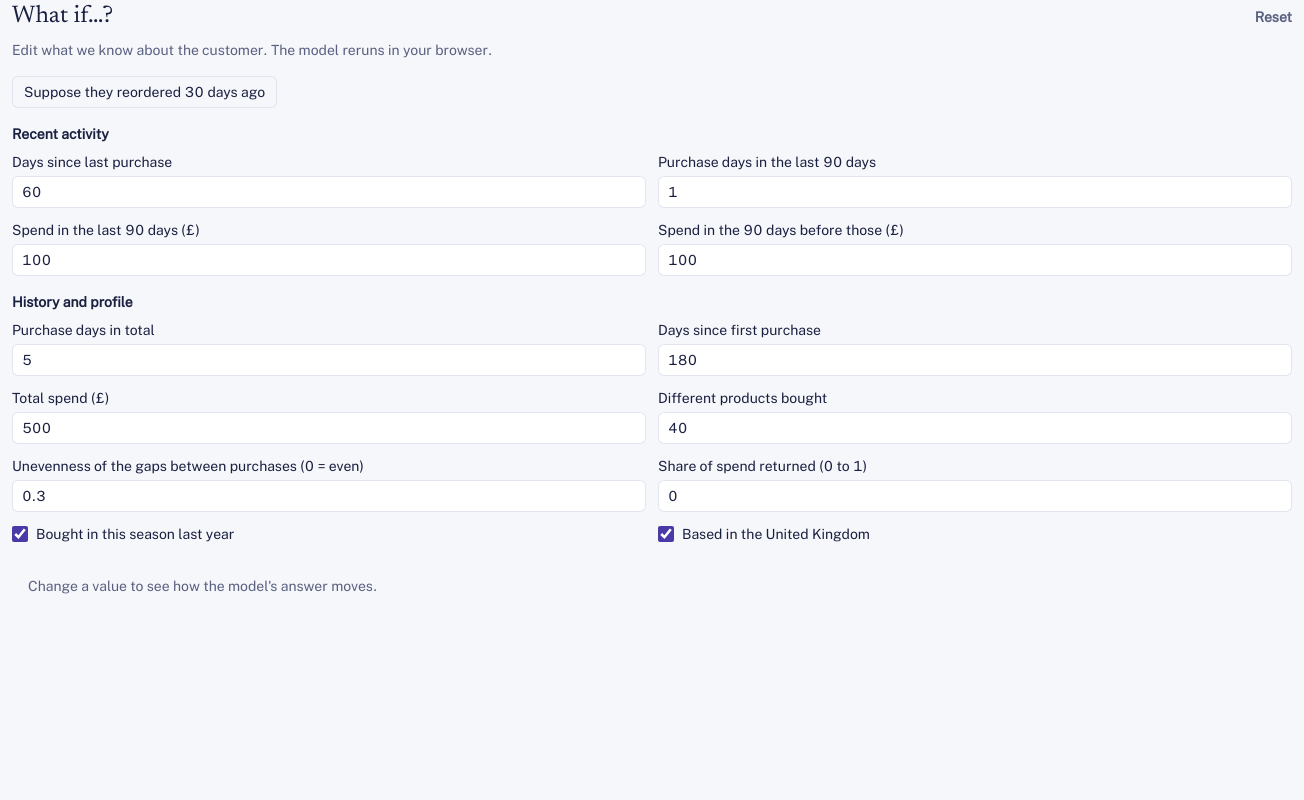
Test case: the reorder preset fills one consistent edit, and Reset undoes it
Click the button "Suppose they reordered 30 days ago" at [145, 92], box x1=12 y1=76 x2=277 y2=108
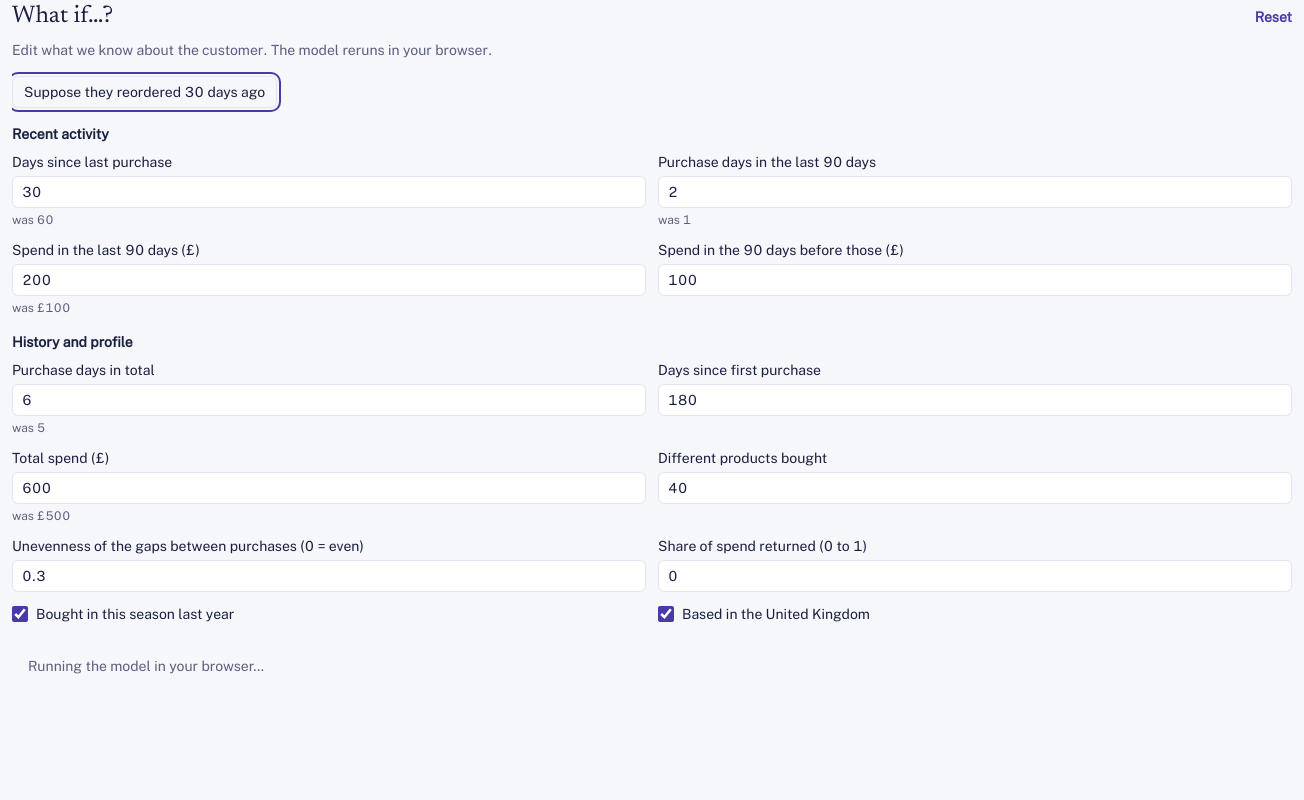
Now the field labelled "Days since last purchase" holds "30", box x1=12 y1=176 x2=646 y2=208
Now the field labelled "Purchase days in total" holds "6", box x1=12 y1=384 x2=646 y2=416
Now the text "was 60" is shown, box x1=12 y1=213 x2=54 y2=227
Click the button "Reset" at [1273, 17], box x1=1255 y1=7 x2=1292 y2=27
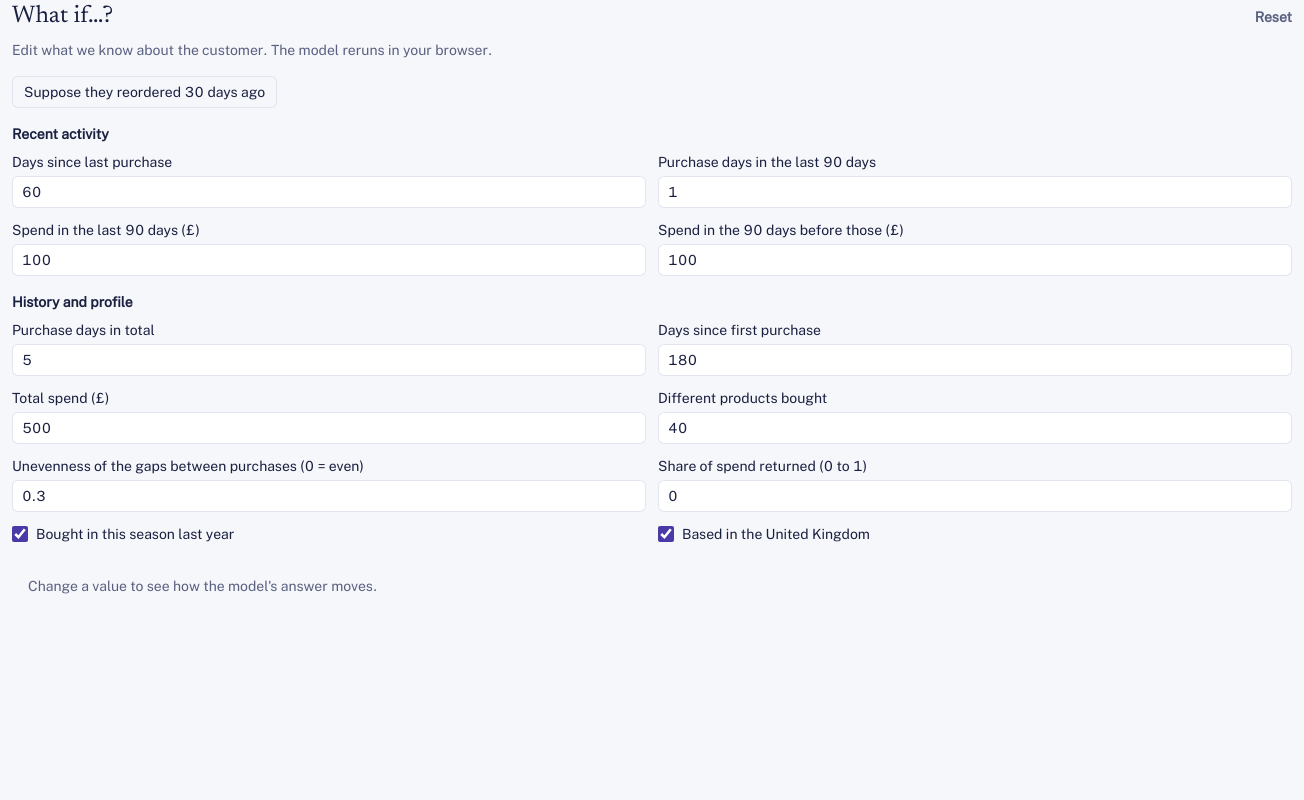
Now the field labelled "Days since last purchase" holds "60", box x1=12 y1=176 x2=646 y2=208
Now the message named "What-if result" reads "Change a value to see how the model's answer moves.", box x1=28 y1=578 x2=377 y2=594
